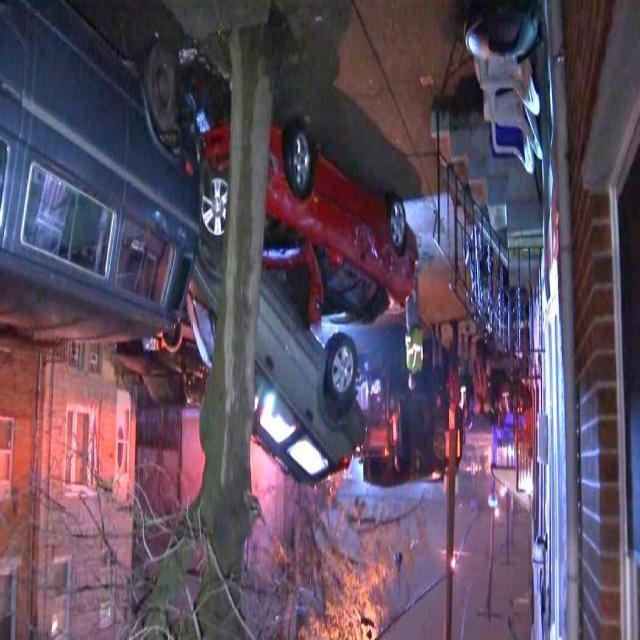severe: (174, 103, 423, 505)
